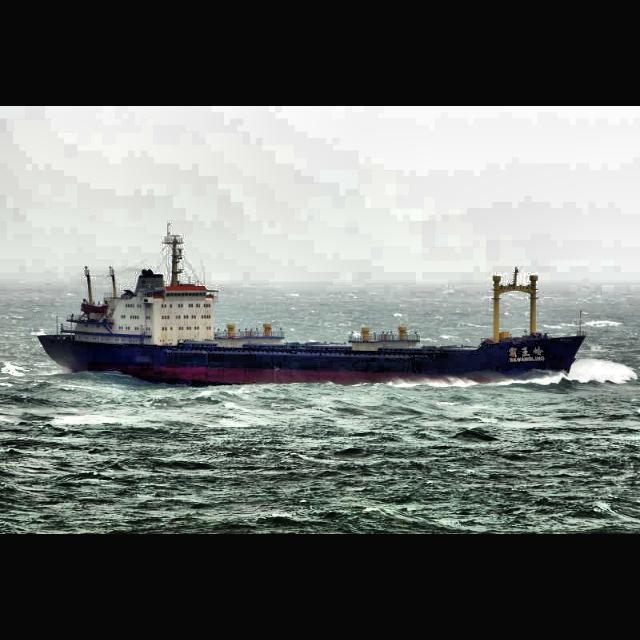bulk_carrier: (36, 222, 588, 386)
